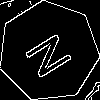N: (23, 26, 81, 82)
